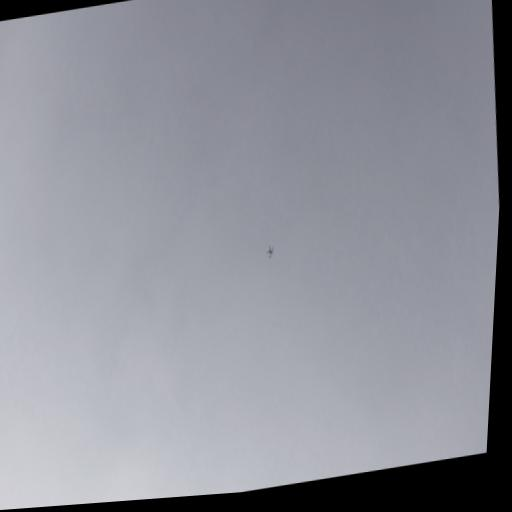drones: (265, 243, 275, 259)
